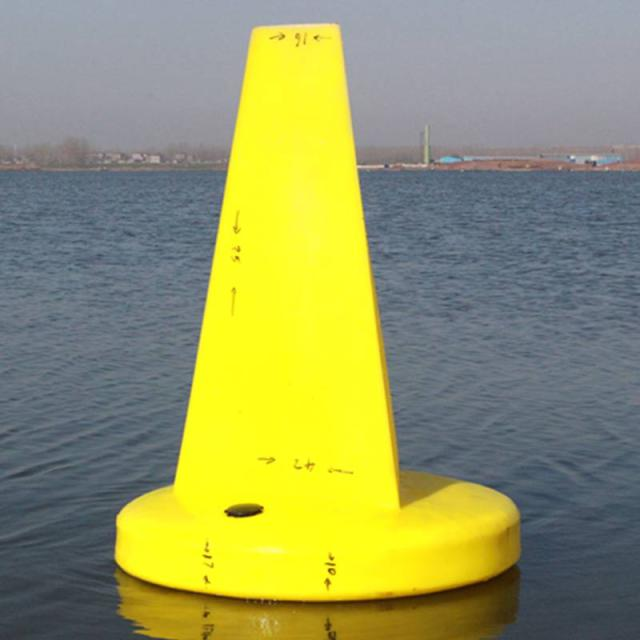buoy: (114, 13, 533, 609)
